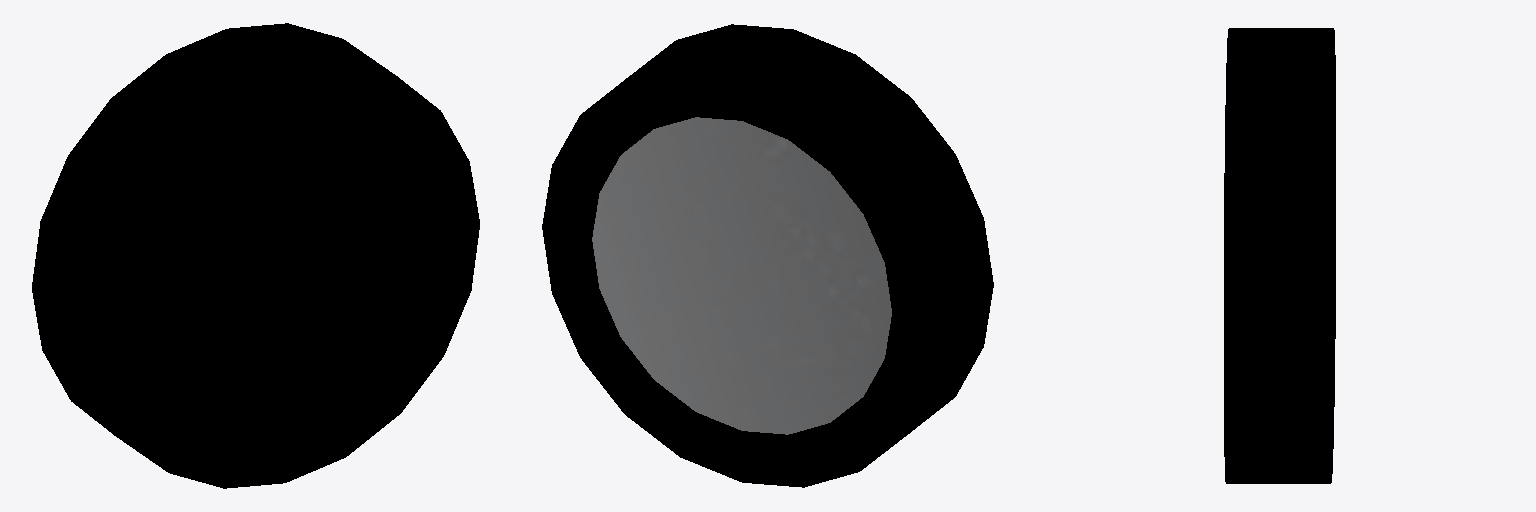
The picture shows the model from 3 angles: view 1: azimuth 30°, elevation 25°; view 2: azimuth 150°, elevation 25°; view 3: azimuth 270°, elevation 25°; orthographic projection.
Parts seen in each view (by area): view 1: polySurface1776polySurface1769; view 2: polySurface1776polySurface1769; view 3: polySurface1776polySurface1769.
Part boxes in pixels (left/top/right/bottom): polySurface1776polySurface1769: left=32, top=23, right=479, bottom=488; polySurface1776polySurface1769: left=542, top=24, right=993, bottom=487; polySurface1776polySurface1769: left=1224, top=28, right=1335, bottom=483.
Bounding box in the file's own units: 1.26 × 1.26 × 0.3086.
2 materials, 2 textured.